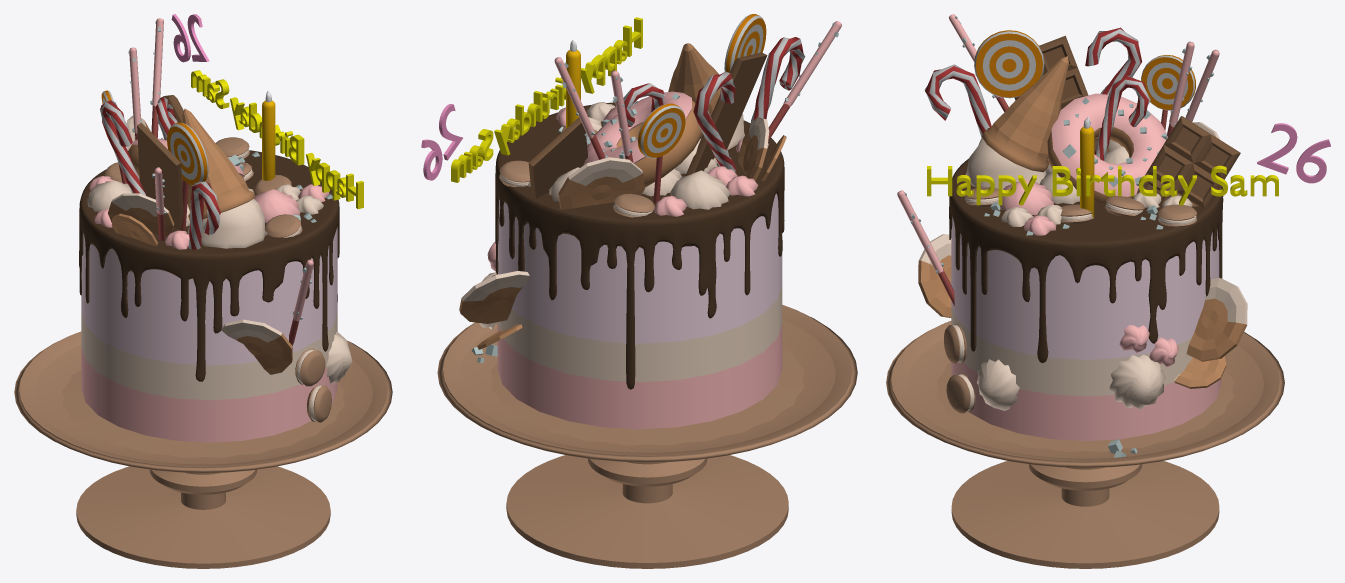
Rendered from cake.fbx.
3 renders of one model, left to right at view 1: azimuth 30°, elevation 25°; view 2: azimuth 150°, elevation 25°; view 3: azimuth 270°, elevation 25°, orthographic. The views are drawn at different scales.
Visible parts, largest first — view 1: pCylinder19, pCylinder1, pCylinder3, pCylinder18, Text, pCube70, pCylinder35, pCylinder28, pCylinder27, pCylinder25, pCylinder33, Circle (+15 smaller); view 2: pCylinder19, pCylinder1, pCylinder3, Text, pCube38, pCylinder32, pCube70, pCube54, pCylinder30, pCylinder29, pCylinder25, pCylinder18 (+12 smaller); view 3: pCylinder19, pCylinder1, pCylinder3, pCylinder18, pCube38, Text, pCube54, pCylinder28, pCylinder30, palepink17, pCylinder29, pCylinder35 (+18 smaller).
Part boxes in pixels (x1,y1,x2,y2): pCylinder19: (14,331,392,568); pCylinder1: (81,227,337,442); pCylinder3: (79,150,339,381); pCylinder18: (182,108,267,248); Text: (191,70,363,208); pCube70: (137,123,183,230); pCylinder35: (221,319,292,374); pCylinder28: (167,122,208,230); pCylinder27: (100,100,146,195); pCylinder25: (188,181,220,249); pCylinder33: (108,193,174,235); Circle: (262,100,275,180); pCylinder19: (437,305,857,568); pCylinder1: (497,193,782,429); pCylinder3: (495,101,784,389); Text: (451,17,642,182); pCube38: (583,91,702,187); pCylinder32: (558,157,644,209); pCube70: (685,52,767,175); pCube54: (528,117,587,198); pCylinder30: (459,271,529,323); pCylinder29: (637,103,685,203); pCylinder25: (750,37,805,123); pCylinder18: (668,43,744,150); pCylinder19: (886,321,1284,568); pCylinder1: (951,217,1221,440); pCylinder3: (949,158,1223,363); pCylinder18: (965,56,1068,189); pCube38: (1047,93,1167,202); Text: (927,165,1278,205); pCube54: (1131,116,1240,206); pCylinder28: (974,30,1044,98); pCylinder30: (1186,278,1247,361); palepink17: (1109,354,1165,409); pCylinder29: (1141,55,1195,129); pCylinder35: (918,234,951,317).
Bounding box in the file's own units: 1494 × 1948 × 1666.
